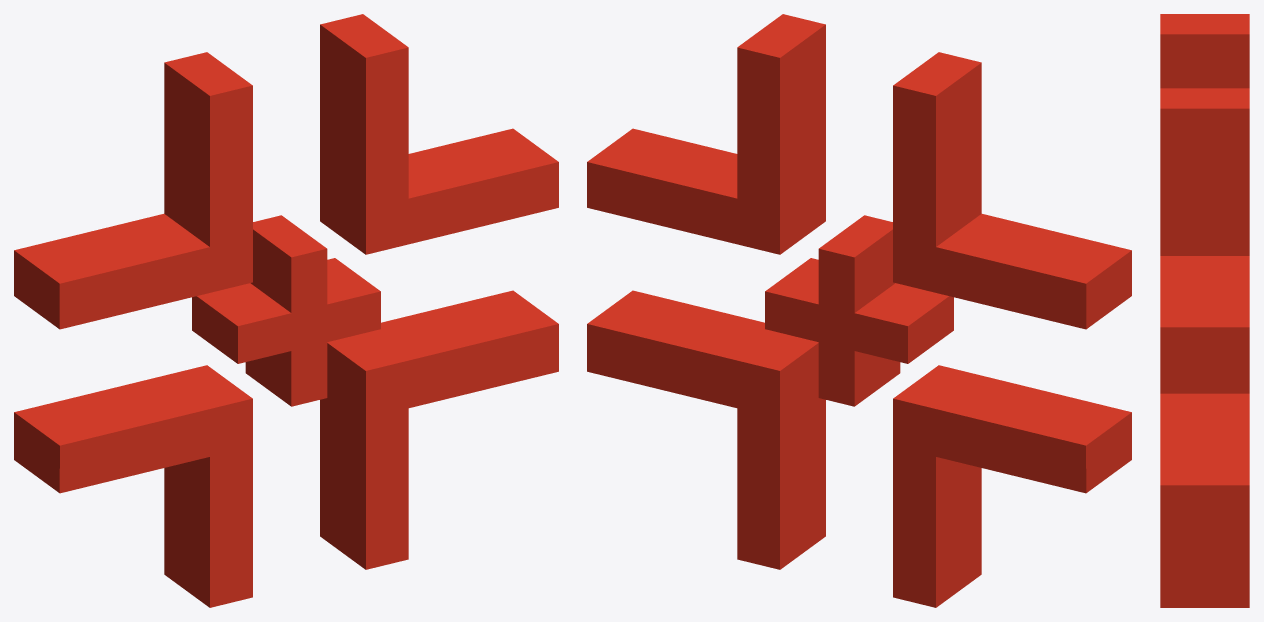
File: Icon_Aim_02.fbx
The picture shows the model from 3 angles, left to right: view 1: azimuth 30°, elevation 25°; view 2: azimuth 150°, elevation 25°; view 3: azimuth 270°, elevation 25°; orthographic projection. The views are drawn at different scales.
Parts seen in each view (by area): view 1: Icon_Aim_02; view 2: Icon_Aim_02; view 3: Icon_Aim_02.
Boxes of the visible parts, bbox=[...] form: Icon_Aim_02: bbox=[14, 14, 558, 607]; Icon_Aim_02: bbox=[587, 14, 1131, 607]; Icon_Aim_02: bbox=[1160, 14, 1249, 607].
Bounding box in the file's own units: 76.04 × 74.55 × 12.06.
